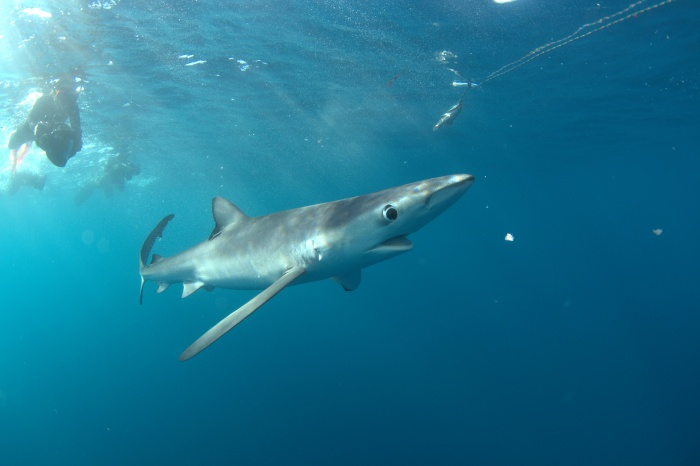Azul: (119, 167, 491, 373)
